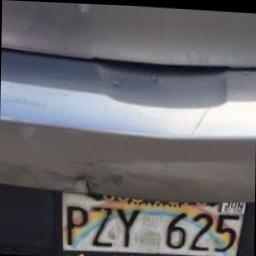Bumper: (0, 0, 256, 203)
